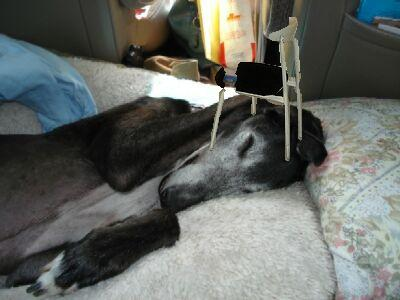tampered: (210, 18, 302, 161)
